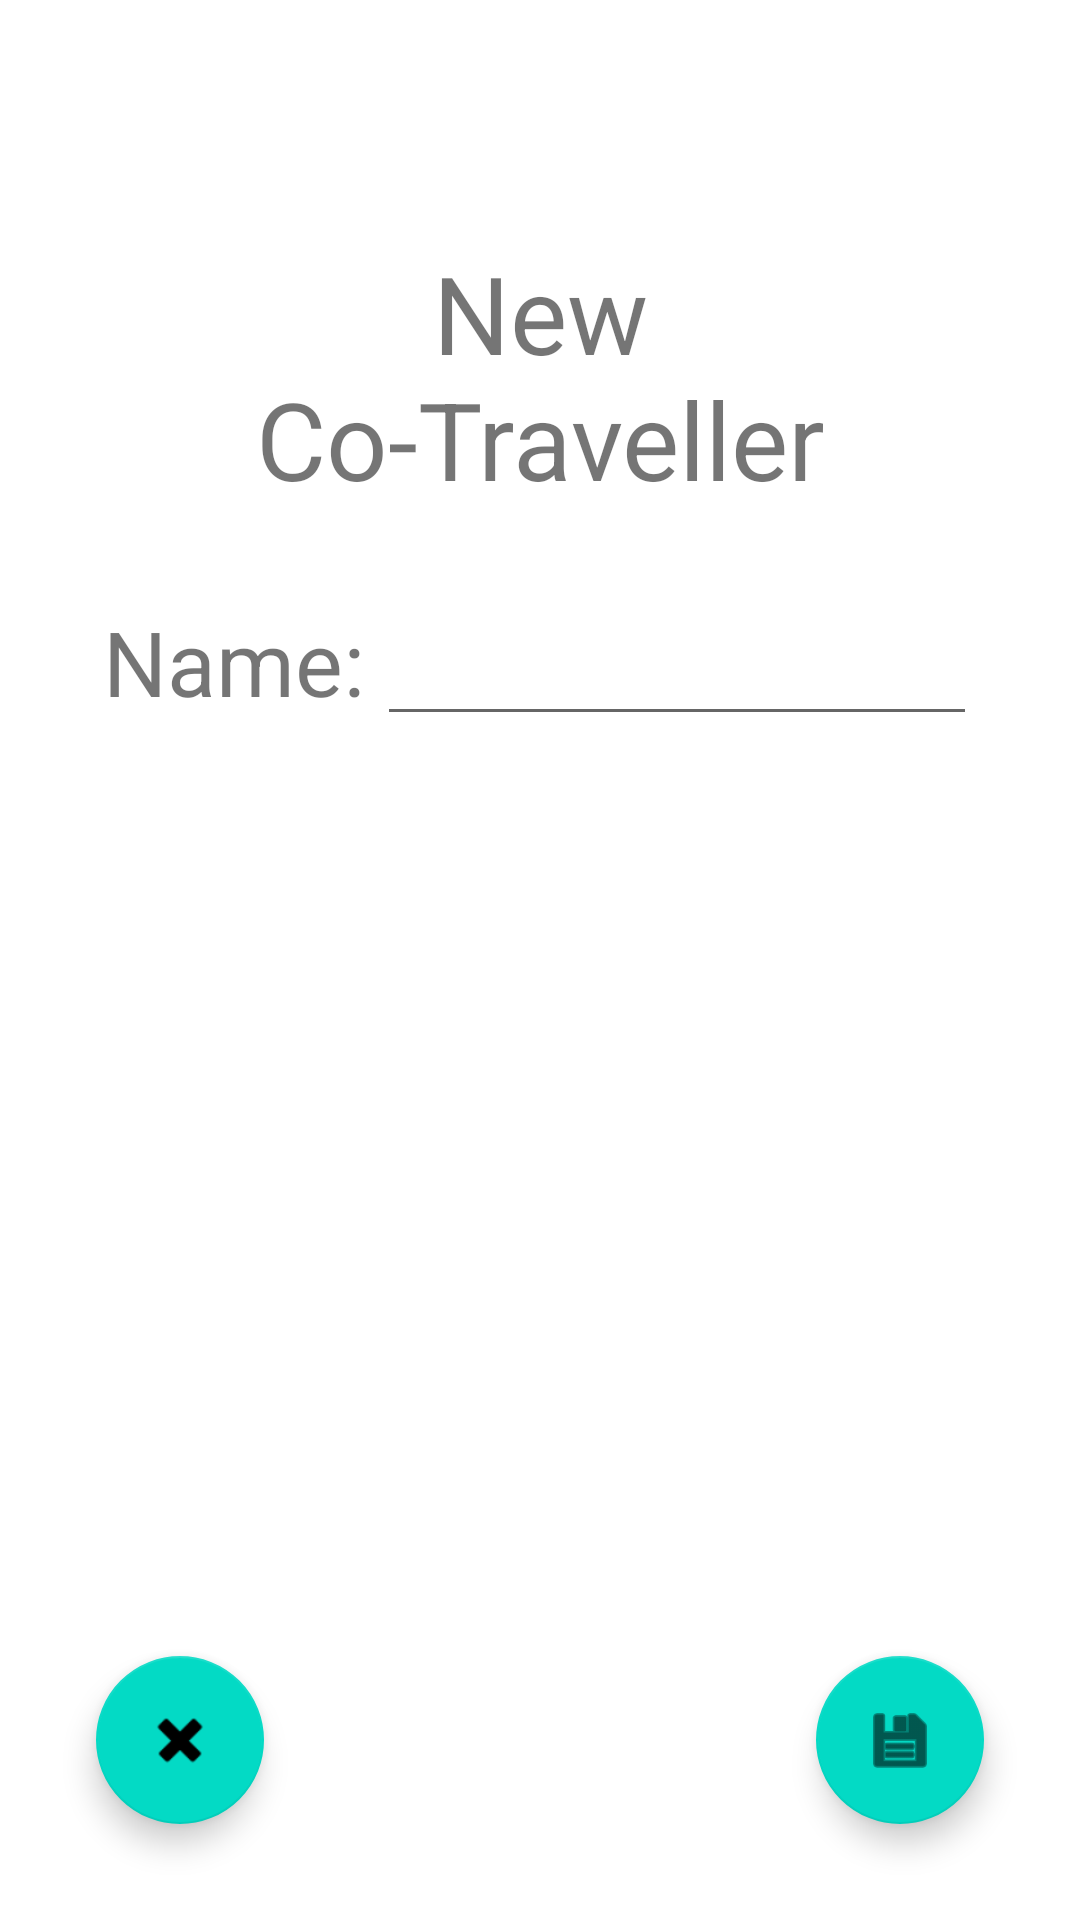

Named icons in this screenshot (1080 x 1920) and their centers, point (x, y):
delete: point (180, 1740)
save: point (900, 1740)
